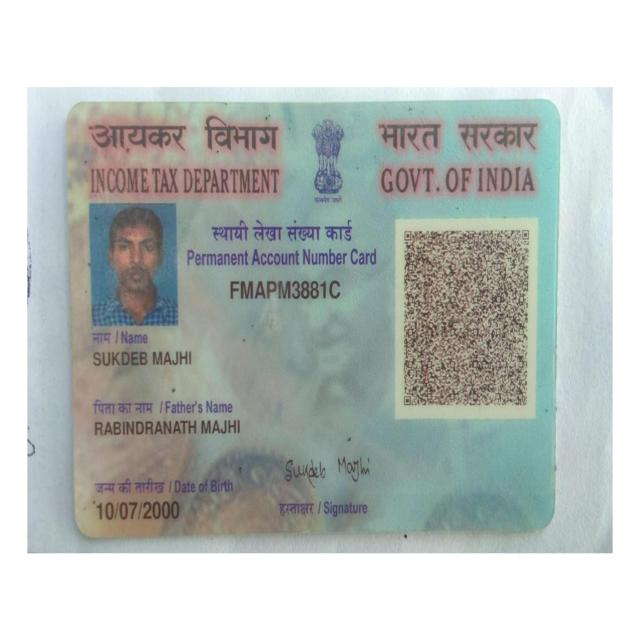pan_card: (72, 108, 551, 532)
